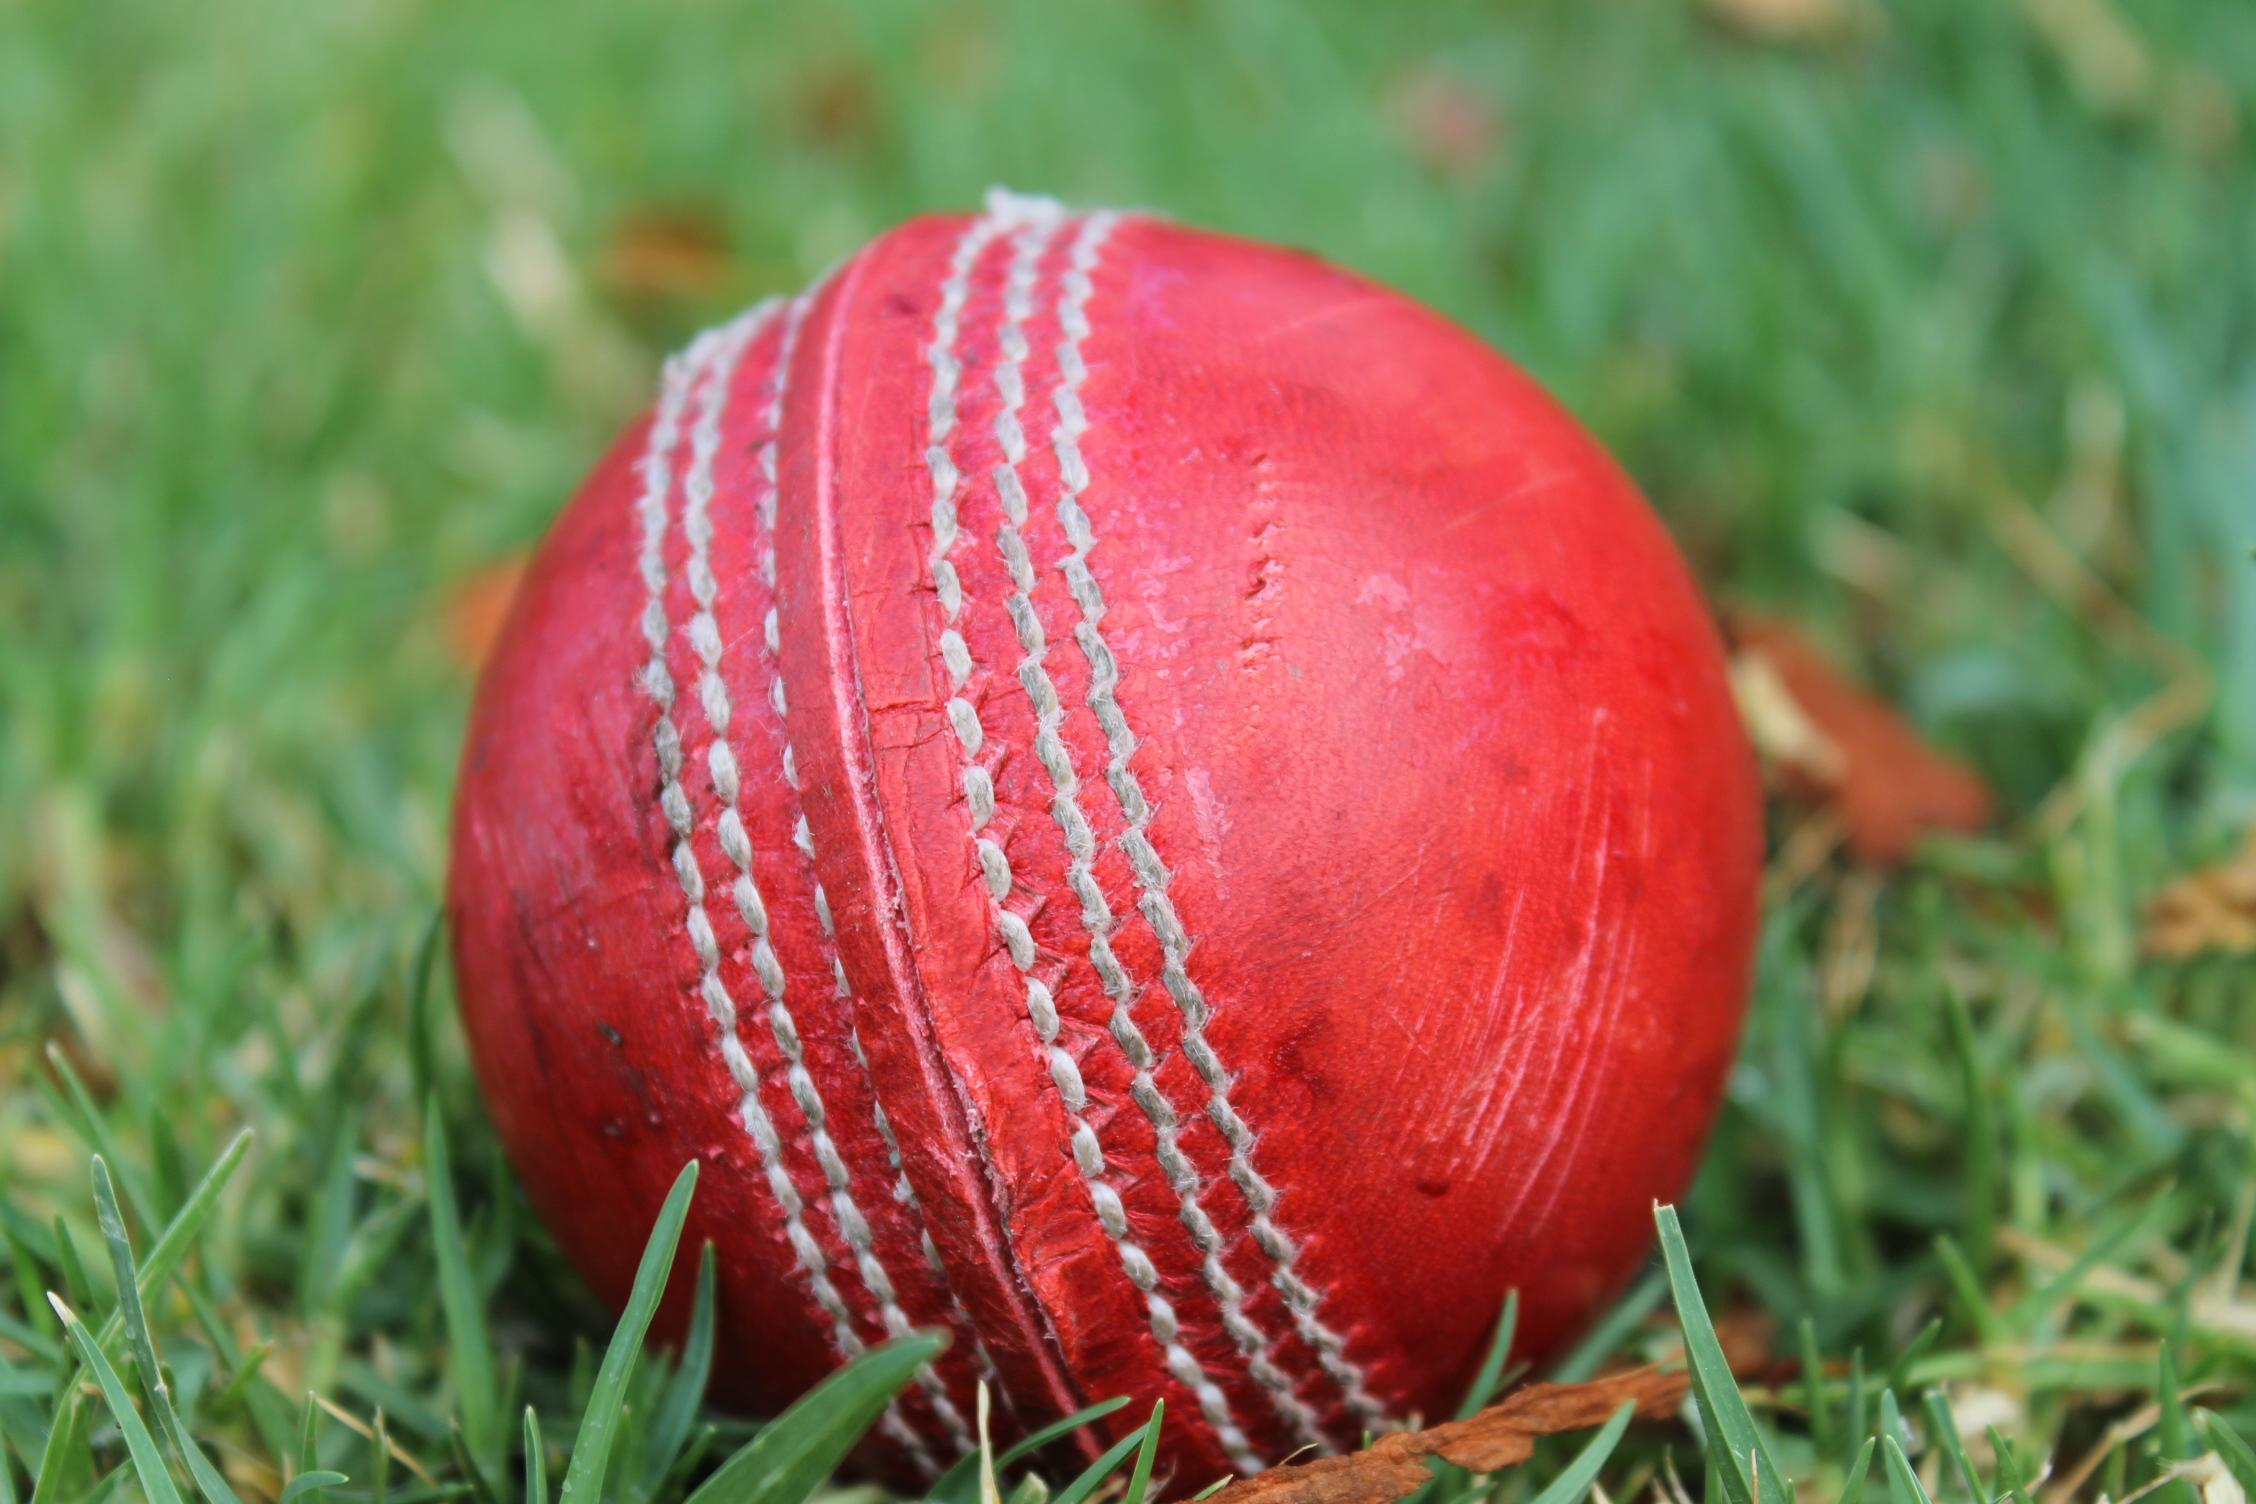Red_Ball: (359, 215, 1794, 1457)
